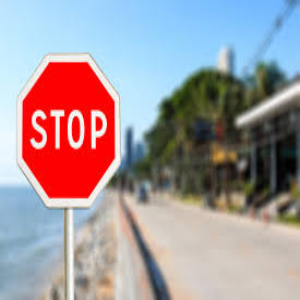STOP_SIGN: (15, 52, 121, 208)
